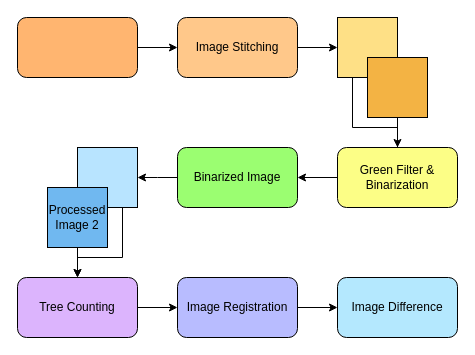
The diagram is 475 pixels wide and 355 high, and some of its shapes have lost their labels. The box of each missing label's shape, as (x1, y1, x2, y2) in pixels:
Image 1: (336, 16, 398, 78)
Image 2: (366, 56, 428, 118)
Multiple Images from UAV: (16, 16, 138, 78)
Processed Image 1: (76, 146, 138, 208)
